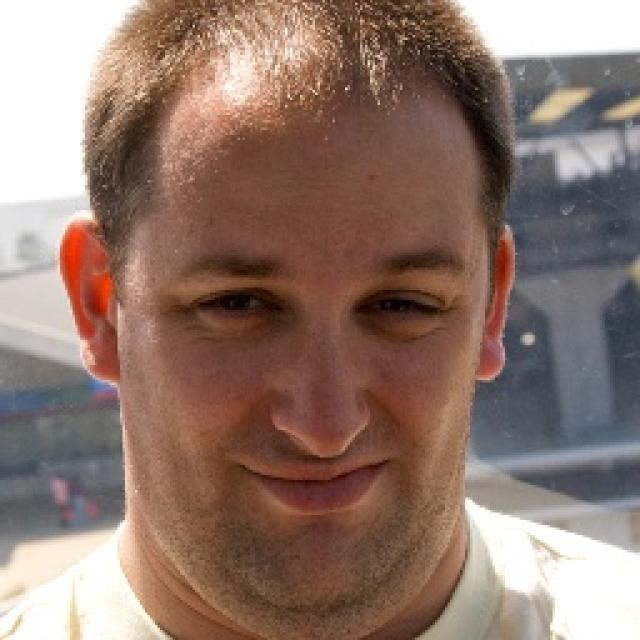earlobe: (58, 216, 123, 384), (473, 224, 515, 381)
